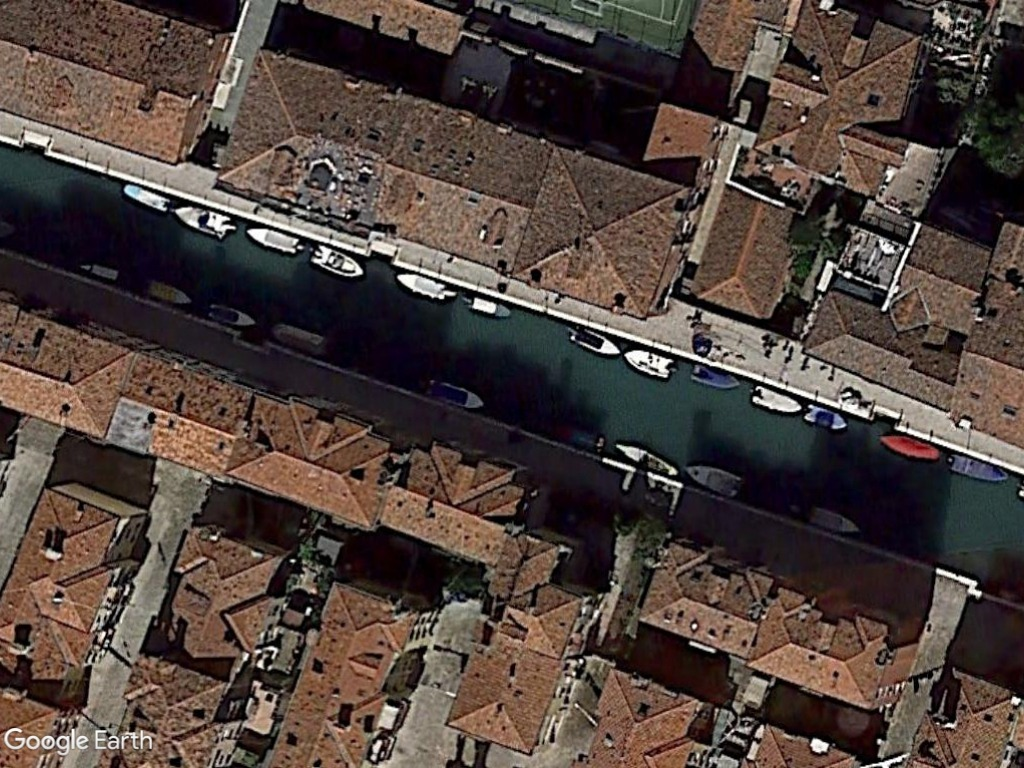boat: (171, 197, 235, 241), (308, 240, 368, 284), (424, 377, 487, 417), (873, 430, 944, 465), (266, 318, 329, 357), (681, 461, 745, 499), (562, 322, 620, 363), (243, 224, 305, 262), (946, 451, 1011, 486), (804, 502, 863, 539), (391, 270, 455, 304), (620, 340, 672, 380), (748, 381, 803, 417), (687, 360, 745, 393), (119, 181, 171, 214), (142, 277, 194, 309), (205, 300, 257, 331), (800, 400, 849, 427)
